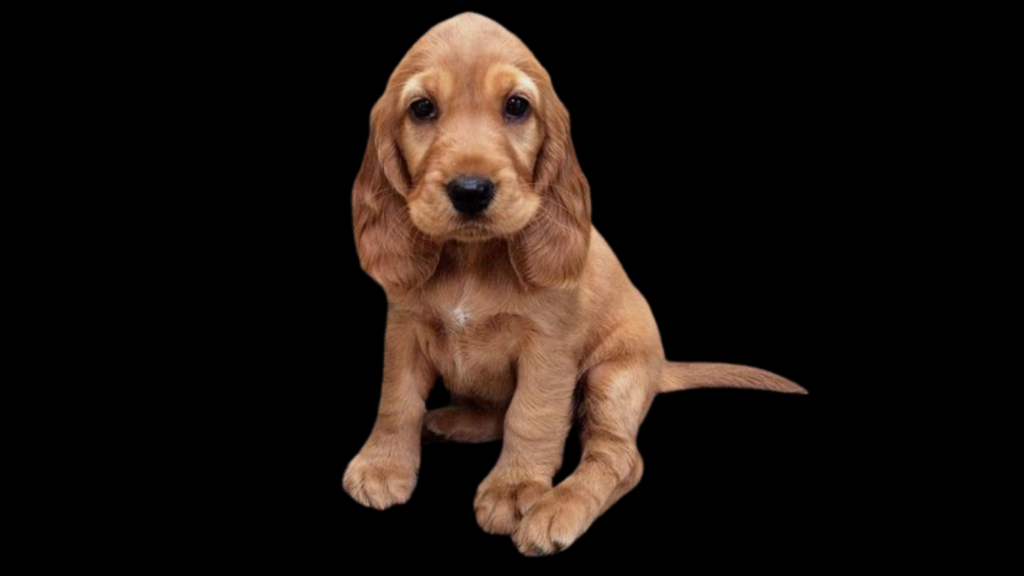Dog: (325, 3, 837, 567)
